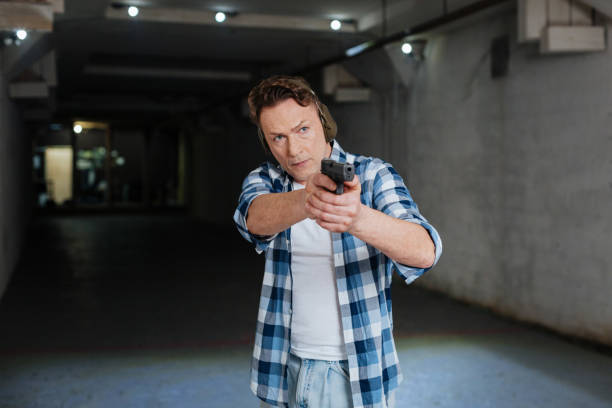gun: (321, 158, 355, 196)
